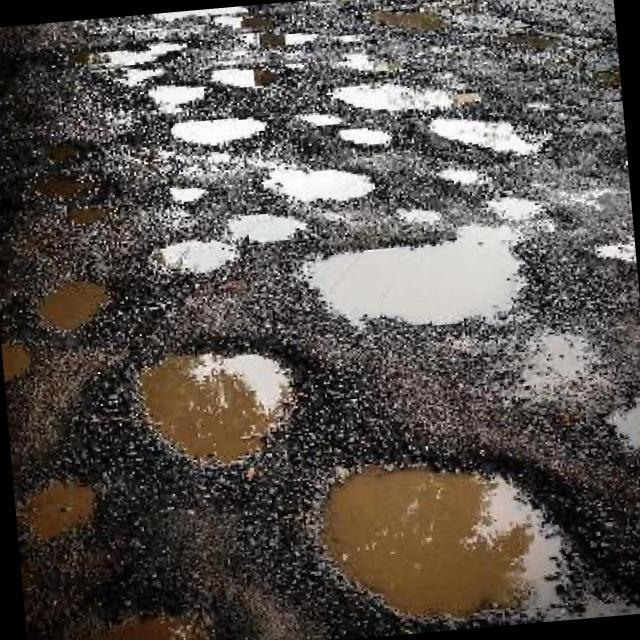Pothole: (324, 469, 559, 618), (305, 201, 536, 324), (140, 353, 289, 461), (260, 165, 373, 201), (429, 117, 537, 154), (28, 481, 93, 537), (332, 83, 450, 111), (172, 116, 265, 146), (41, 283, 97, 330), (161, 240, 237, 273), (88, 618, 197, 640), (228, 213, 303, 243), (148, 86, 203, 108), (211, 68, 260, 87), (339, 127, 389, 145)
